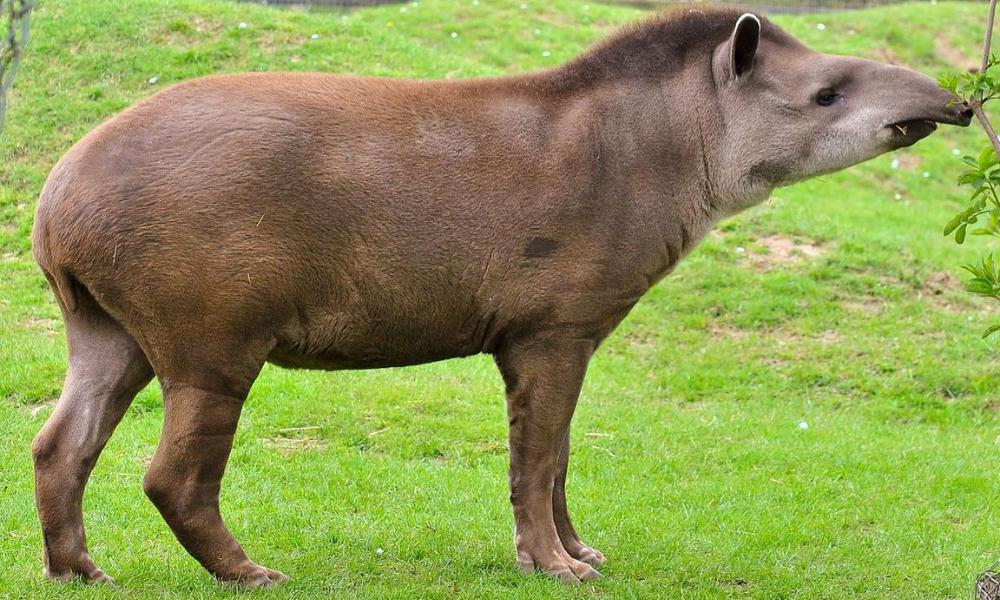Anta: (22, 12, 977, 588)
